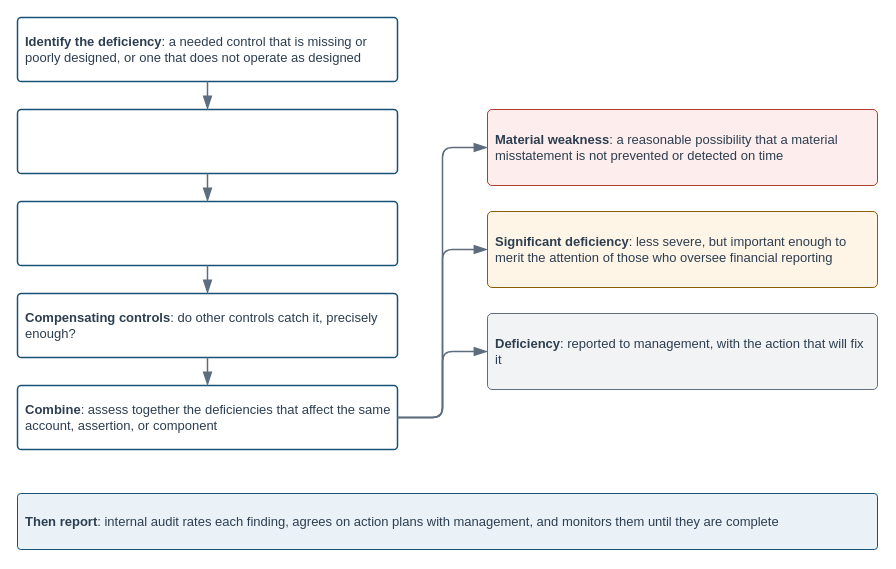
The diagram is 896 pixels wide and 569 high, and some of its shapes have lost their labels. The shapes that lost their labels are listed below. From the top down, each one's box as (x1, y1, x2, y2) in pixels, then its label:
(16, 108, 398, 174): Likelihood : is a misstatement reasonably possible, whether or not one occurred?
(16, 200, 398, 266): Magnitude : how large could it be, against materiality?
